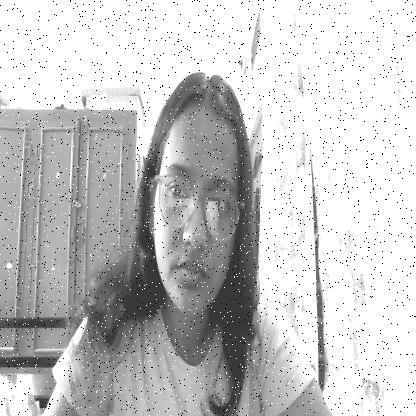Normal: (142, 65, 253, 320)
